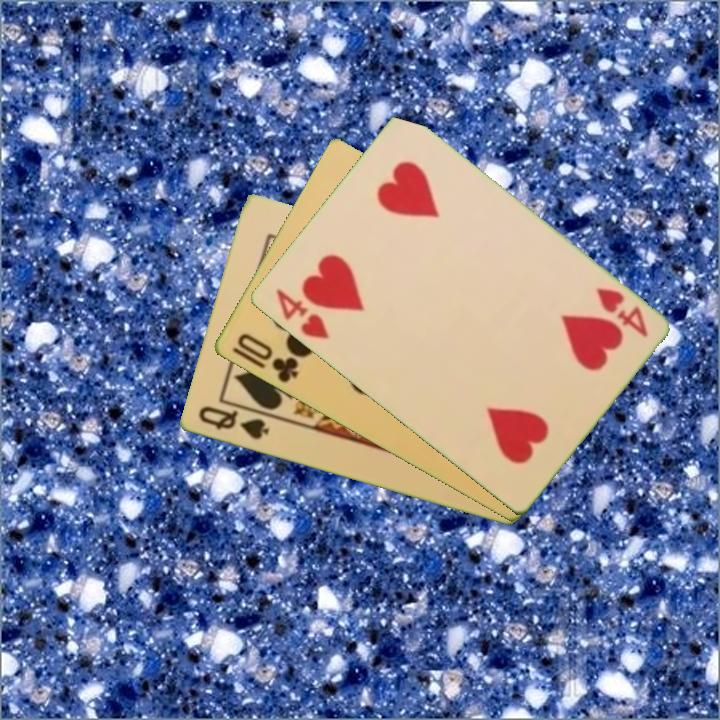10c: (233, 330, 301, 386)
4h: (271, 285, 331, 343), (591, 284, 651, 341)
Qs: (194, 403, 272, 443)
